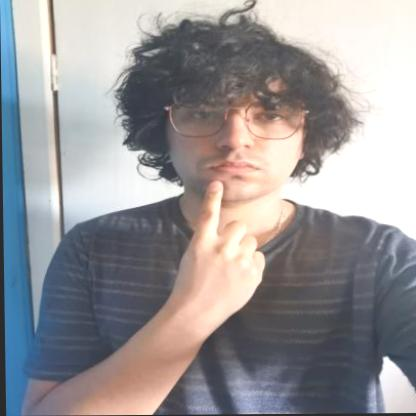T: (173, 178, 267, 321)
